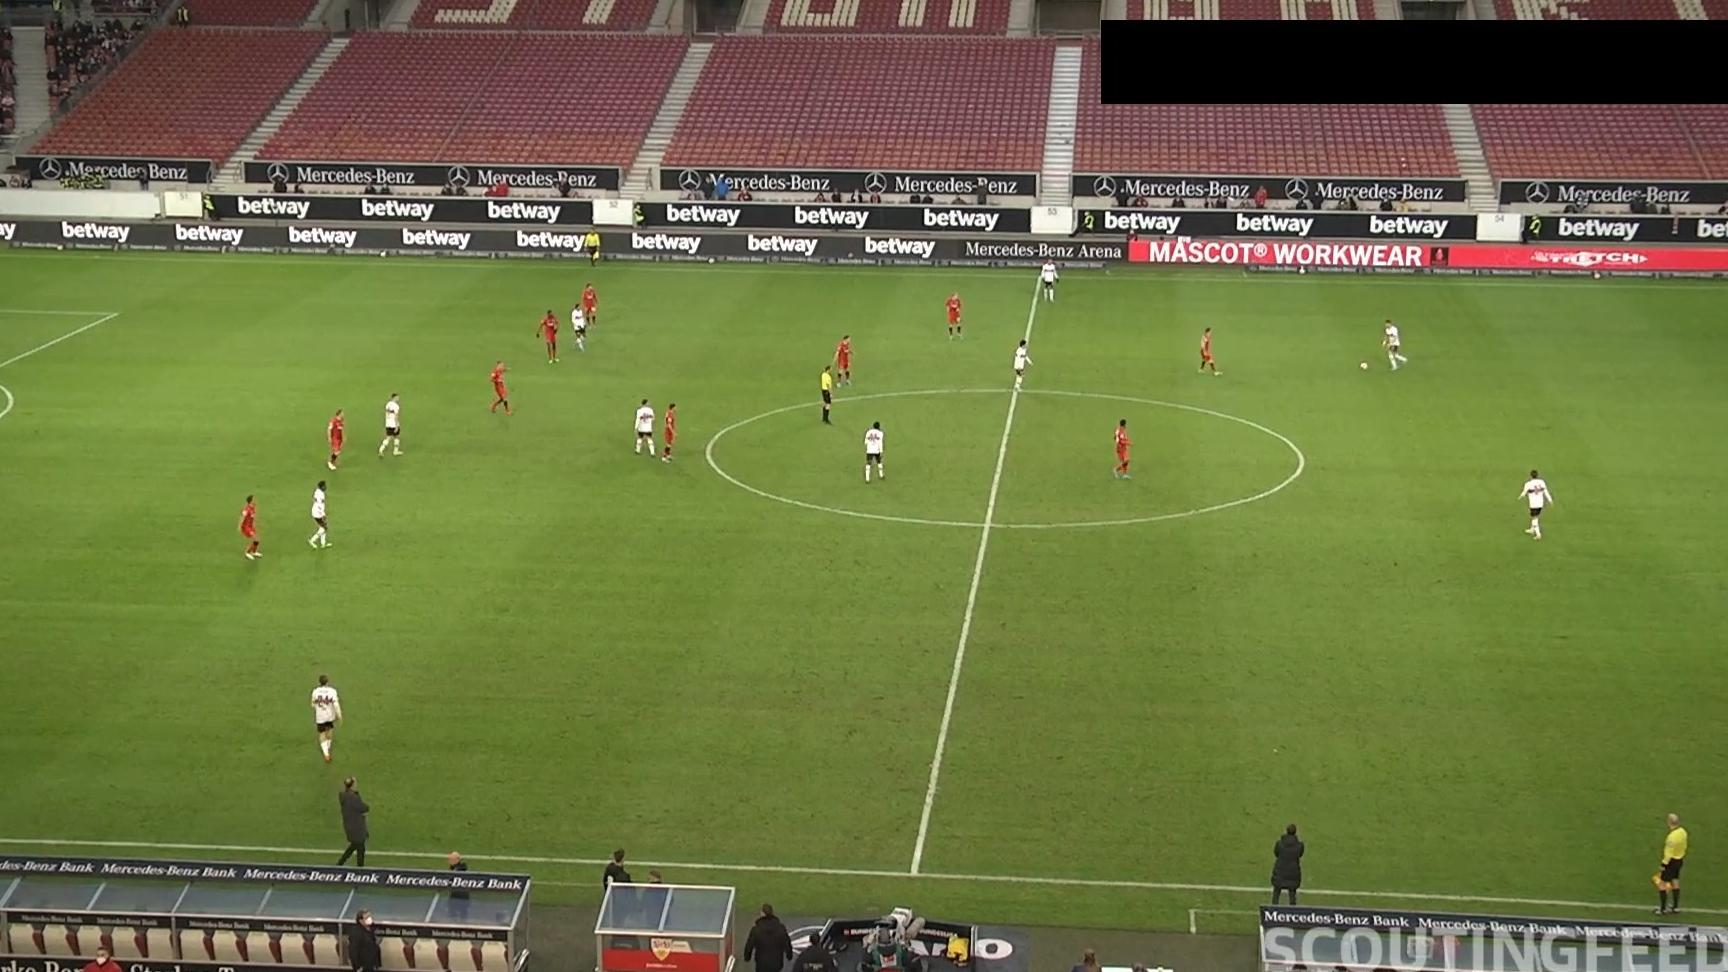ball: (1359, 361, 1370, 370)
